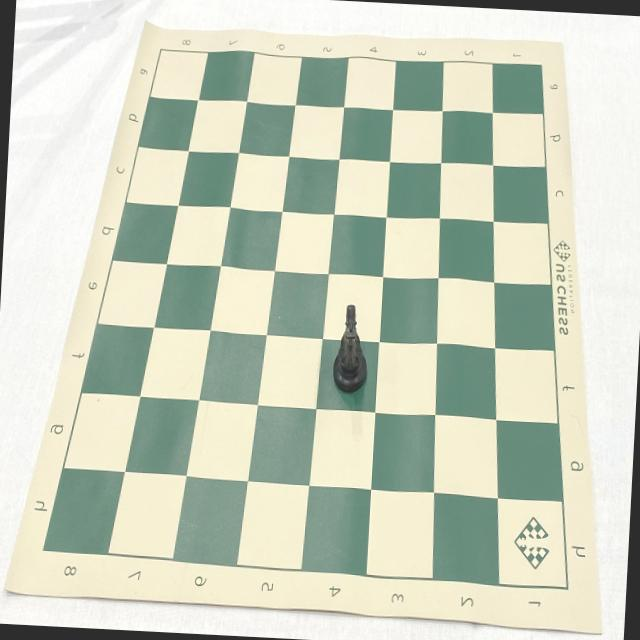black-knight: (331, 302, 372, 395)
